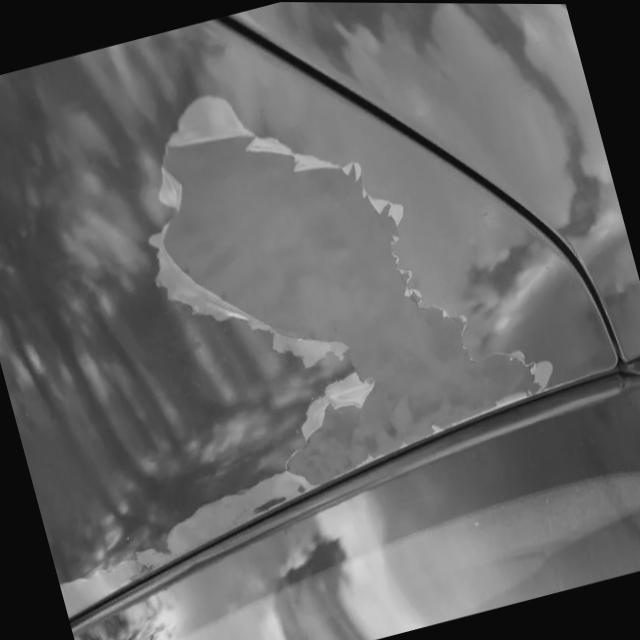Paint-fading: (141, 87, 568, 492)
